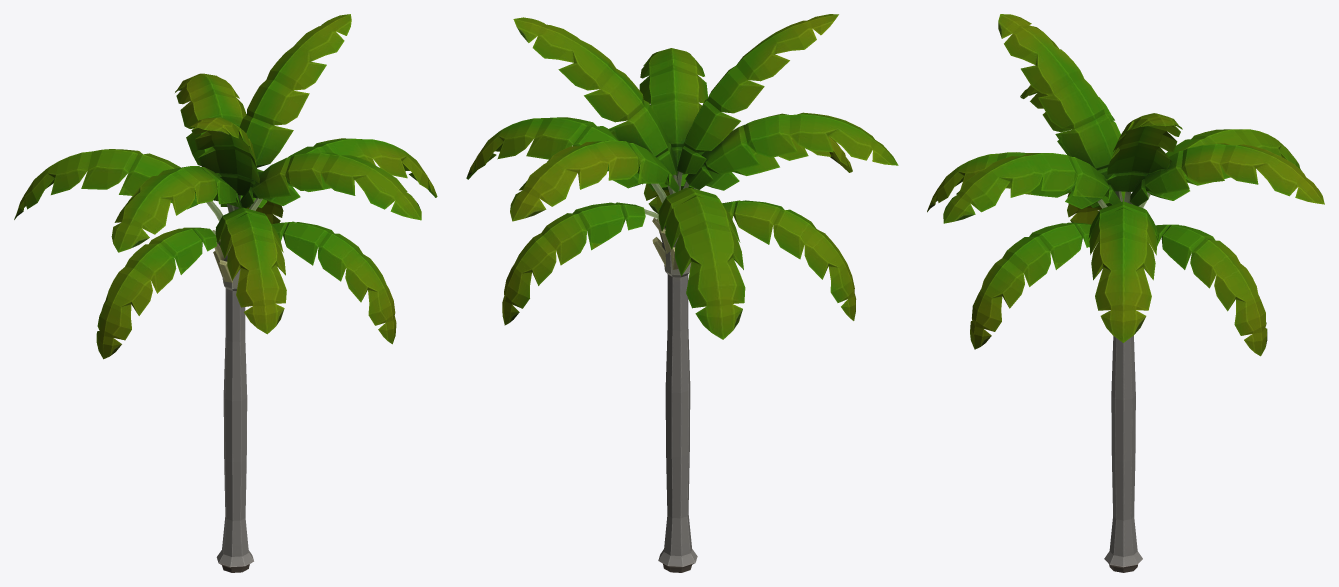
Rendered from boom-palm.glb.
The picture shows the model from 3 angles, left to right: view 1: azimuth 30°, elevation 25°; view 2: azimuth 150°, elevation 25°; view 3: azimuth 270°, elevation 25°; orthographic projection. The views are drawn at different scales.
Parts seen in each view (by area): view 1: boom-palm; view 2: boom-palm; view 3: boom-palm.
Boxes of the visible parts, box(x1,y1,x2,y2) form: boom-palm: box(14, 14, 437, 572); boom-palm: box(466, 14, 898, 572); boom-palm: box(927, 14, 1324, 572).
Bounding box in the file's own units: 3.59 × 4.76 × 3.38.
1 material, 1 textured.
